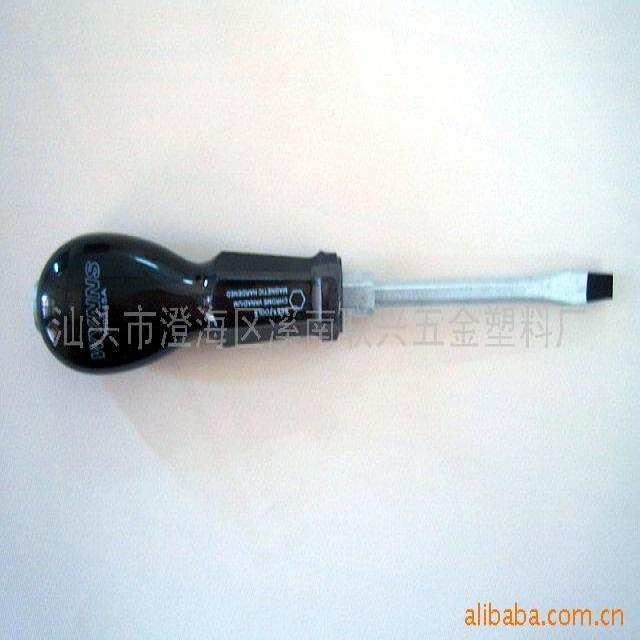screwdriver: (21, 208, 616, 371)
